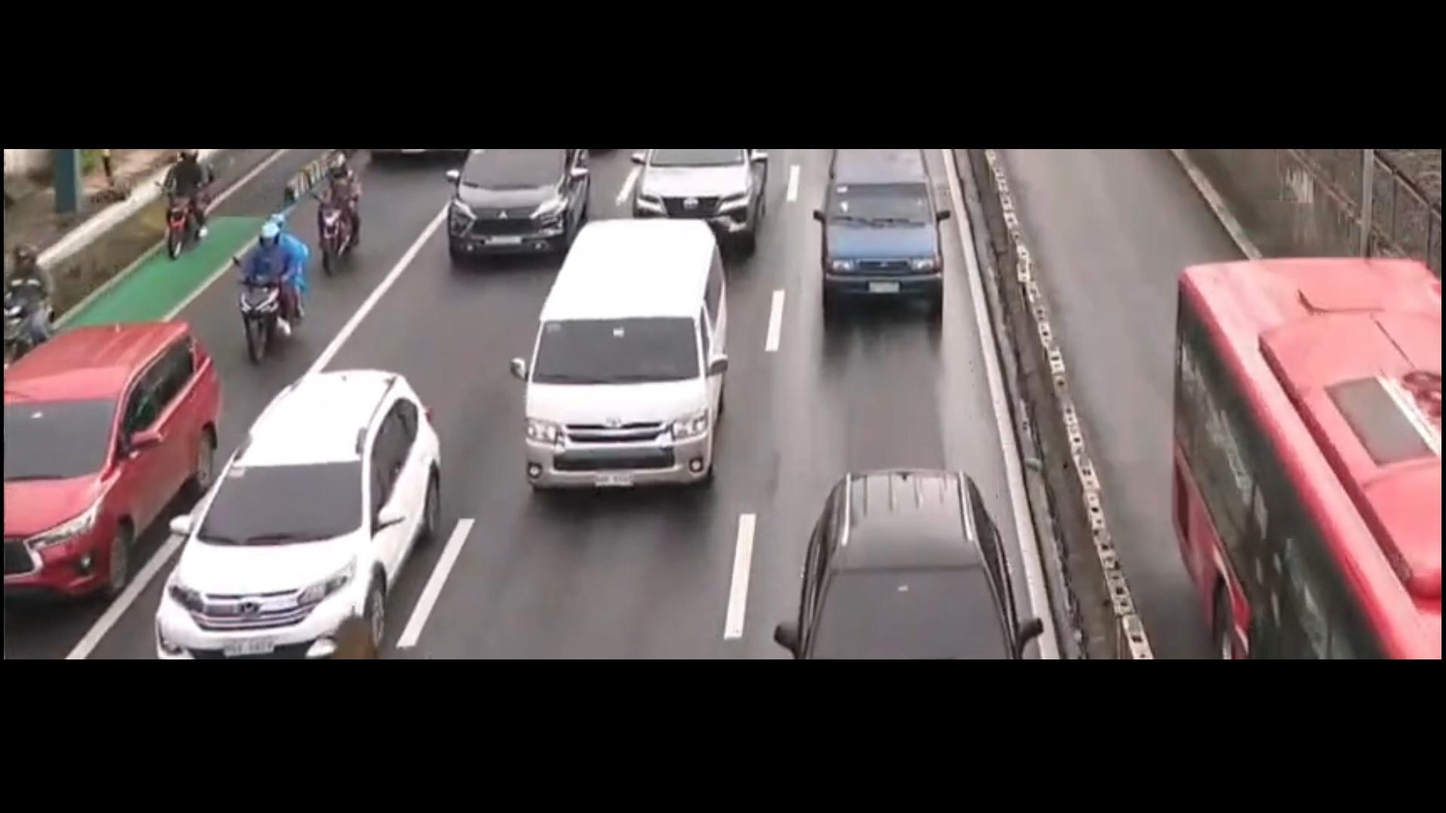Bus: (1096, 195, 1446, 661)
Motorcycle: (216, 200, 328, 369), (126, 143, 234, 264), (0, 232, 95, 343), (323, 145, 381, 277)
SUV: (132, 352, 460, 661), (0, 300, 226, 615), (777, 469, 1066, 672)
Van: (503, 221, 757, 503)
